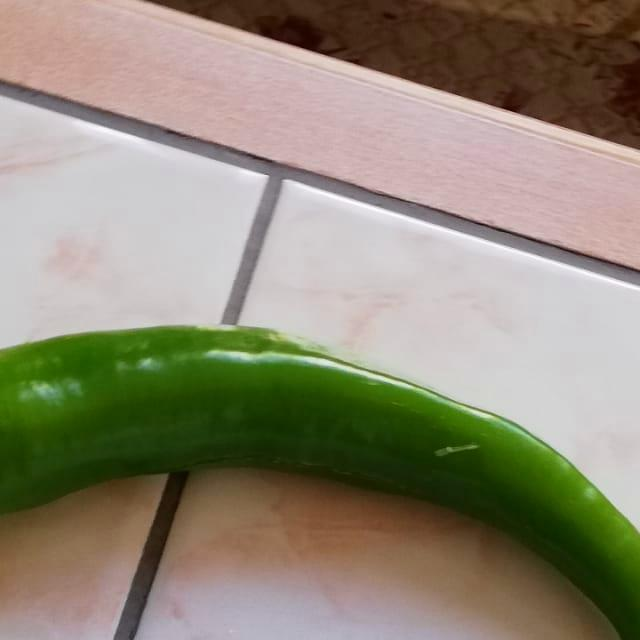chili_pepper: (0, 309, 640, 640)
